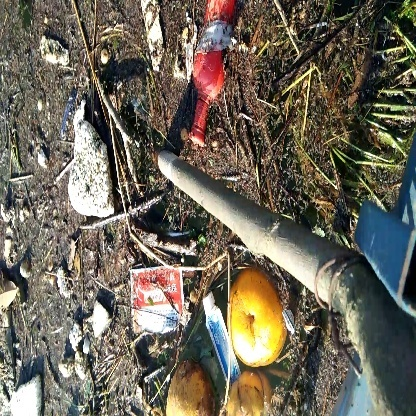bottle: (189, 1, 237, 150)
plastic-garbage: (67, 120, 119, 222)
